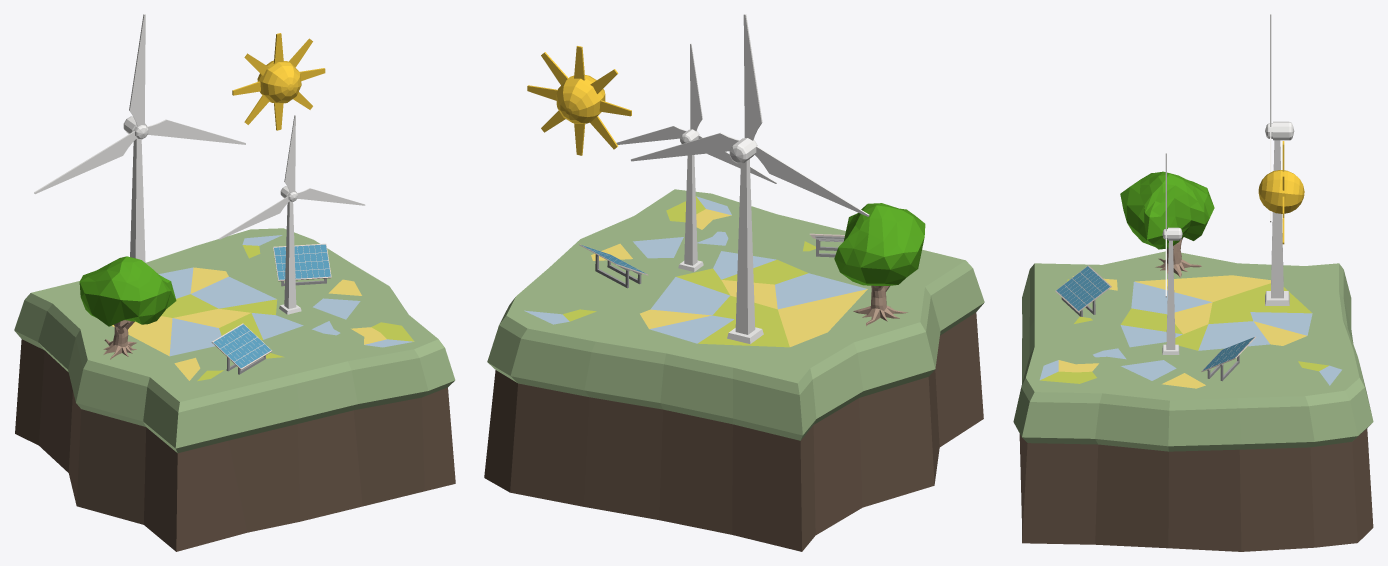
The model's file is Island_18.fbx.
The picture shows the model from 3 angles, left to right: view 1: azimuth 30°, elevation 25°; view 2: azimuth 150°, elevation 25°; view 3: azimuth 270°, elevation 25°; orthographic projection. The views are drawn at different scales.
Parts seen in each view (by area): view 1: Isl_18_Base, Isl_18_Mosaic, Isl_18_Tree_1, Isl_18_Wind_Turbine_1, Isl_18_Sun, Isl_18_Wind_Turbine_2, Isl_18_Solar_Battery_1, Isl_18_Solar_Battery_2; view 2: Isl_18_Base, Isl_18_Mosaic, Isl_18_Wind_Turbine_1, Isl_18_Tree_1, Isl_18_Sun, Isl_18_Wind_Turbine_2, Isl_18_Solar_Battery_1; view 3: Isl_18_Base, Isl_18_Mosaic, Isl_18_Tree_1, Isl_18_Wind_Turbine_1, Isl_18_Sun, Isl_18_Solar_Battery_2, Isl_18_Wind_Turbine_2, Isl_18_Solar_Battery_1.
Part boxes in pixels (x1=…): Isl_18_Base: x1=14, y1=228, x2=455, y2=551; Isl_18_Mosaic: x1=112, y1=235, x2=414, y2=381; Isl_18_Tree_1: x1=79, y1=256, x2=176, y2=359; Isl_18_Wind_Turbine_1: x1=34, y1=14, x2=245, y2=262; Isl_18_Sun: x1=232, y1=33, x2=325, y2=130; Isl_18_Wind_Turbine_2: x1=218, y1=115, x2=365, y2=314; Isl_18_Solar_Battery_1: x1=273, y1=243, x2=331, y2=286; Isl_18_Solar_Battery_2: x1=211, y1=323, x2=272, y2=374; Isl_18_Base: x1=484, y1=189, x2=984, y2=551; Isl_18_Mosaic: x1=524, y1=196, x2=867, y2=347; Isl_18_Wind_Turbine_1: x1=631, y1=14, x2=869, y2=344; Isl_18_Tree_1: x1=834, y1=203, x2=925, y2=325; Isl_18_Sun: x1=527, y1=46, x2=631, y2=155; Isl_18_Wind_Turbine_2: x1=616, y1=43, x2=776, y2=271; Isl_18_Solar_Battery_1: x1=579, y1=244, x2=648, y2=288; Isl_18_Base: x1=1013, y1=251, x2=1373, y2=551; Isl_18_Mosaic: x1=1039, y1=275, x2=1341, y2=388; Isl_18_Tree_1: x1=1120, y1=171, x2=1214, y2=277; Isl_18_Wind_Turbine_1: x1=1265, y1=14, x2=1294, y2=305; Isl_18_Sun: x1=1258, y1=141, x2=1304, y2=244; Isl_18_Solar_Battery_2: x1=1055, y1=265, x2=1111, y2=316; Isl_18_Wind_Turbine_2: x1=1162, y1=153, x2=1182, y2=354; Isl_18_Solar_Battery_1: x1=1201, y1=336, x2=1255, y2=381.
Size of the model in its own units: 2039 by 1915 by 2550.
